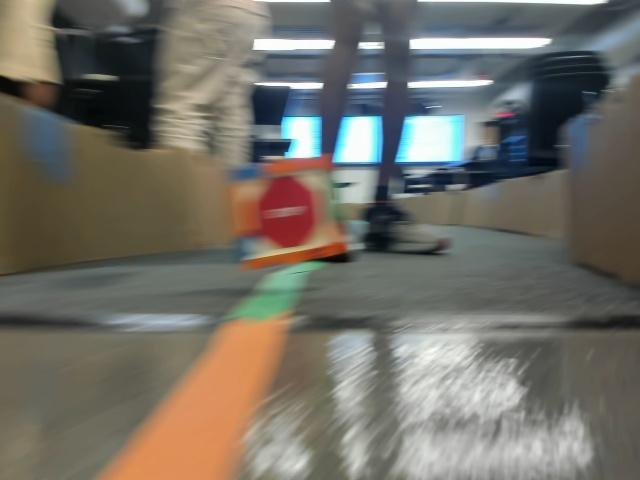Stop: (255, 179, 309, 250)
